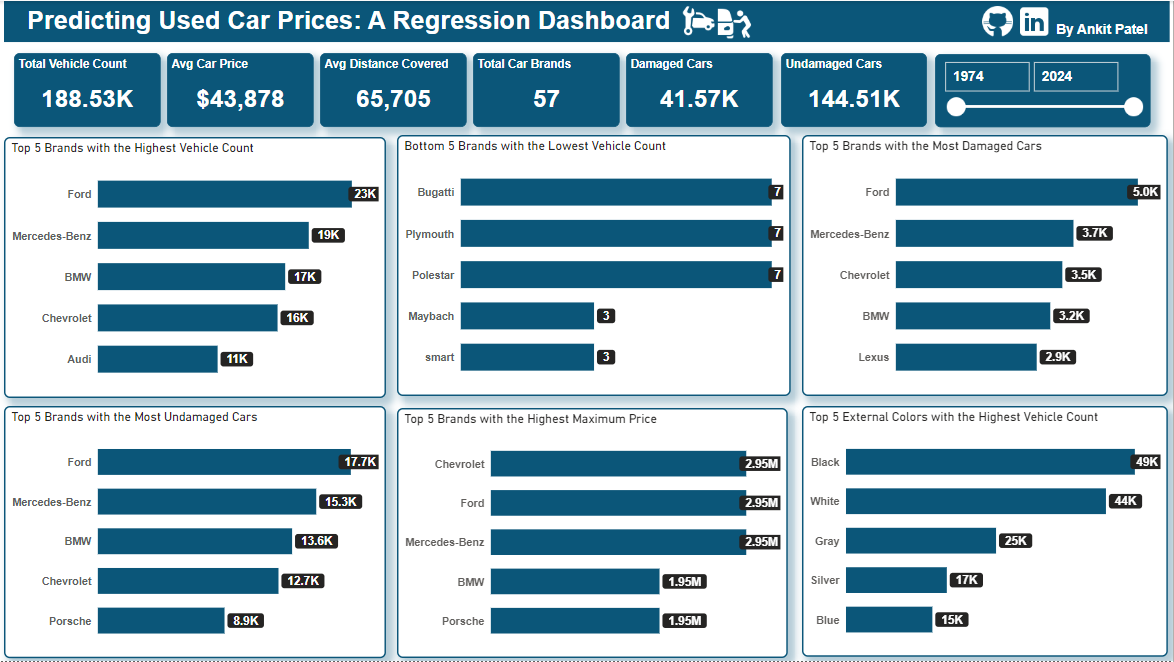

This screenshot's page, from the dashboard's own definition file:
{"tool":"powerbi","page":{"name":"Page 2","canvas":[1600,900],"ordinal":1},"visuals":[{"type":"shape","box":[4.8,0,1590.3,56.5],"z":0},{"type":"card","title":"Total Vehicle Count","fields":{"Values":["Measures Table.Total Car Users"]},"box":[19.1,71.3,200,100.6],"z":1000},{"type":"card","title":"Total Car Brands","fields":{"Values":["Measures Table.Total Car Brand"]},"box":[645.1,71,200.4,101],"z":2000},{"type":"card","title":"Avg Car Price","fields":{"Values":["Measures Table.Avg Car Price"]},"box":[227.4,71,200.4,101],"z":3000},{"type":"card","title":"Avg Distance Covered","fields":{"Values":["Measures Table.Avg Car Milage"]},"box":[436.2,71,200.4,101],"z":4000},{"type":"actionButton","title":"Predicting Used Car Prices: A Regression Dashboard","box":[37.1,6.5,882.3,43.5],"z":5000},{"type":"image","box":[919.4,0,66.1,56.5],"z":6000},{"type":"image","box":[971,0,61.3,56.5],"z":7000},{"type":"image","box":[1325.8,0,69.4,56.5],"z":8000},{"type":"image","box":[1382.3,0,58.1,56.5],"z":9000},{"type":"actionButton","title":"By Ankit Patel","box":[1440.3,29,129,21],"z":10000},{"type":"card","title":"Damaged Cars","fields":{"Values":["Measures Table.Damaged Cars"]},"box":[853.3,71.3,200,100.6],"z":11000},{"type":"card","title":"Undamaged Cars","fields":{"Values":["Measures Table.Undamaged Cars"]},"box":[1065.3,70.9,199.1,100.9],"z":12000},{"type":"slicer","fields":{"Values":["train.model_year"]},"box":[1275.8,72.6,293.5,100],"z":13000},{"type":"barChart","title":"Top 5 Brands with the Highest Vehicle Count","fields":{"Category":["train.brand"],"Y":["Measures Table.Total Vehicle Count"]},"box":[5.5,185.5,521.1,356],"z":14000},{"type":"barChart","title":"Bottom 5 Brands with the Lowest Vehicle Count","fields":{"Category":["train.brand"],"Y":["Measures Table.Total Vehicle Count"]},"box":[541.5,182.8,537.4,356],"z":15000},{"type":"barChart","title":"Top 5 Brands with the Most Damaged Cars","fields":{"Category":["train.brand"],"Y":["Measures Table.Damaged Cars"]},"box":[1093.9,182.8,499.2,356],"z":16000},{"type":"barChart","title":"Top 5 Brands with the Most Undamaged Cars","fields":{"Y":["Measures Table.Undamaged Cars"],"Category":["train.brand"]},"box":[5,553,521,344],"z":17000},{"type":"barChart","title":"Top 5 Brands with the Highest Maximum Price","fields":{"Category":["train.brand"],"Y":["Max(train.price)"]},"box":[541.5,555.2,533.3,341],"z":18000},{"type":"barChart","title":"Top 5 External Colors with the Highest Vehicle Count","fields":{"Category":["train.ext_col"],"Y":["Measures Table.Total Vehicle Count"]},"box":[1093.9,552.4,499.2,342.4],"z":18001}]}

Visuals, with their boxes in screenshot pixels (x1, y1, x2, y2), scaled from the page's 1600x900 canvas onto the 1174x662 screenshot:
shape: Rect(4, 0, 1170, 42)
"Total Vehicle Count" card: Rect(14, 52, 161, 126)
"Total Car Brands" card: Rect(473, 52, 620, 127)
"Avg Car Price" card: Rect(167, 52, 314, 127)
"Avg Distance Covered" card: Rect(320, 52, 467, 127)
"Predicting Used Car Prices: A Regression Dashboard" actionButton: Rect(27, 5, 675, 37)
image: Rect(675, 0, 723, 42)
image: Rect(712, 0, 757, 42)
image: Rect(973, 0, 1024, 42)
image: Rect(1014, 0, 1057, 42)
"By Ankit Patel" actionButton: Rect(1057, 21, 1151, 37)
"Damaged Cars" card: Rect(626, 52, 773, 126)
"Undamaged Cars" card: Rect(782, 52, 928, 126)
slicer - train.model_year: Rect(936, 53, 1151, 127)
"Top 5 Brands with the Highest Vehicle Count" barChart: Rect(4, 136, 386, 398)
"Bottom 5 Brands with the Lowest Vehicle Count" barChart: Rect(397, 134, 792, 396)
"Top 5 Brands with the Most Damaged Cars" barChart: Rect(803, 134, 1169, 396)
"Top 5 Brands with the Most Undamaged Cars" barChart: Rect(4, 407, 386, 660)
"Top 5 Brands with the Highest Maximum Price" barChart: Rect(397, 408, 789, 659)
"Top 5 External Colors with the Highest Vehicle Count" barChart: Rect(803, 406, 1169, 658)
